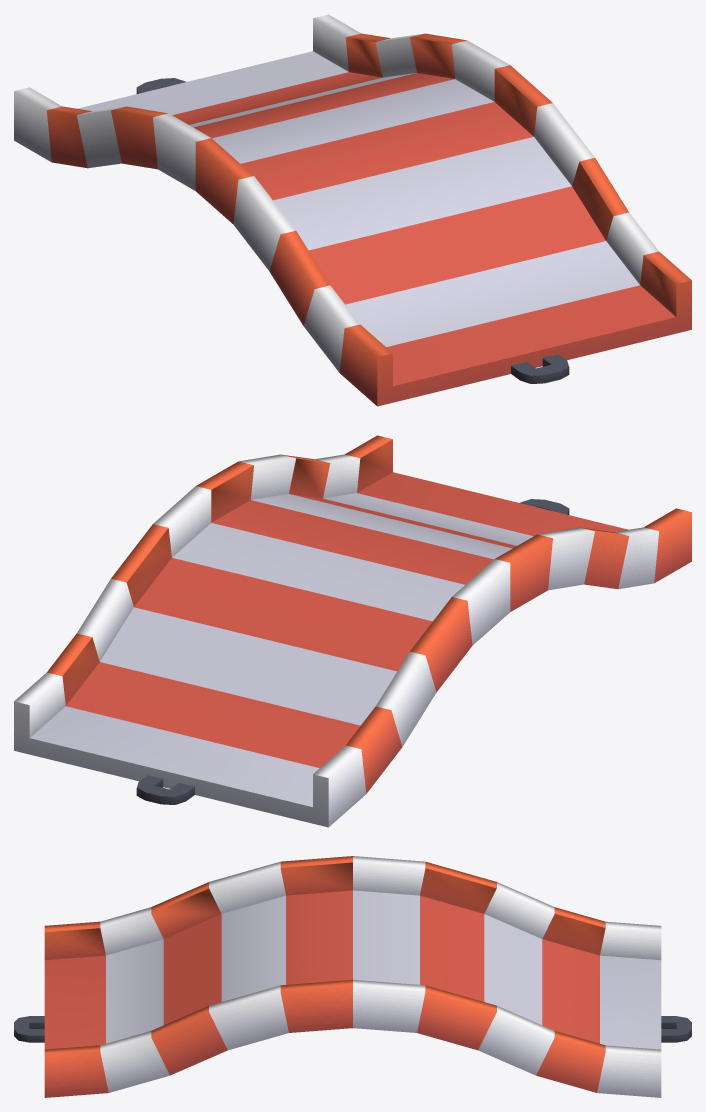
Rendered from track-striped-wide-straight-bump-up_lev1.glb.
3 renders of one model, top to bottom at view 1: azimuth 30°, elevation 25°; view 2: azimuth 150°, elevation 25°; view 3: azimuth 270°, elevation 25°, orthographic. The views are drawn at different scales.
Visible parts, largest first — view 1: track-striped-wide-straight-bump-up_lev1; view 2: track-striped-wide-straight-bump-up_lev1; view 3: track-striped-wide-straight-bump-up_lev1.
Part boxes in pixels (bbox=[...]): track-striped-wide-straight-bump-up_lev1: bbox=[14, 14, 691, 406]; track-striped-wide-straight-bump-up_lev1: bbox=[14, 435, 691, 827]; track-striped-wide-straight-bump-up_lev1: bbox=[14, 856, 691, 1097].
Bounding box in the file's own units: 2 × 0.8 × 4.4.
Materials: 1 (1 with a texture image).
